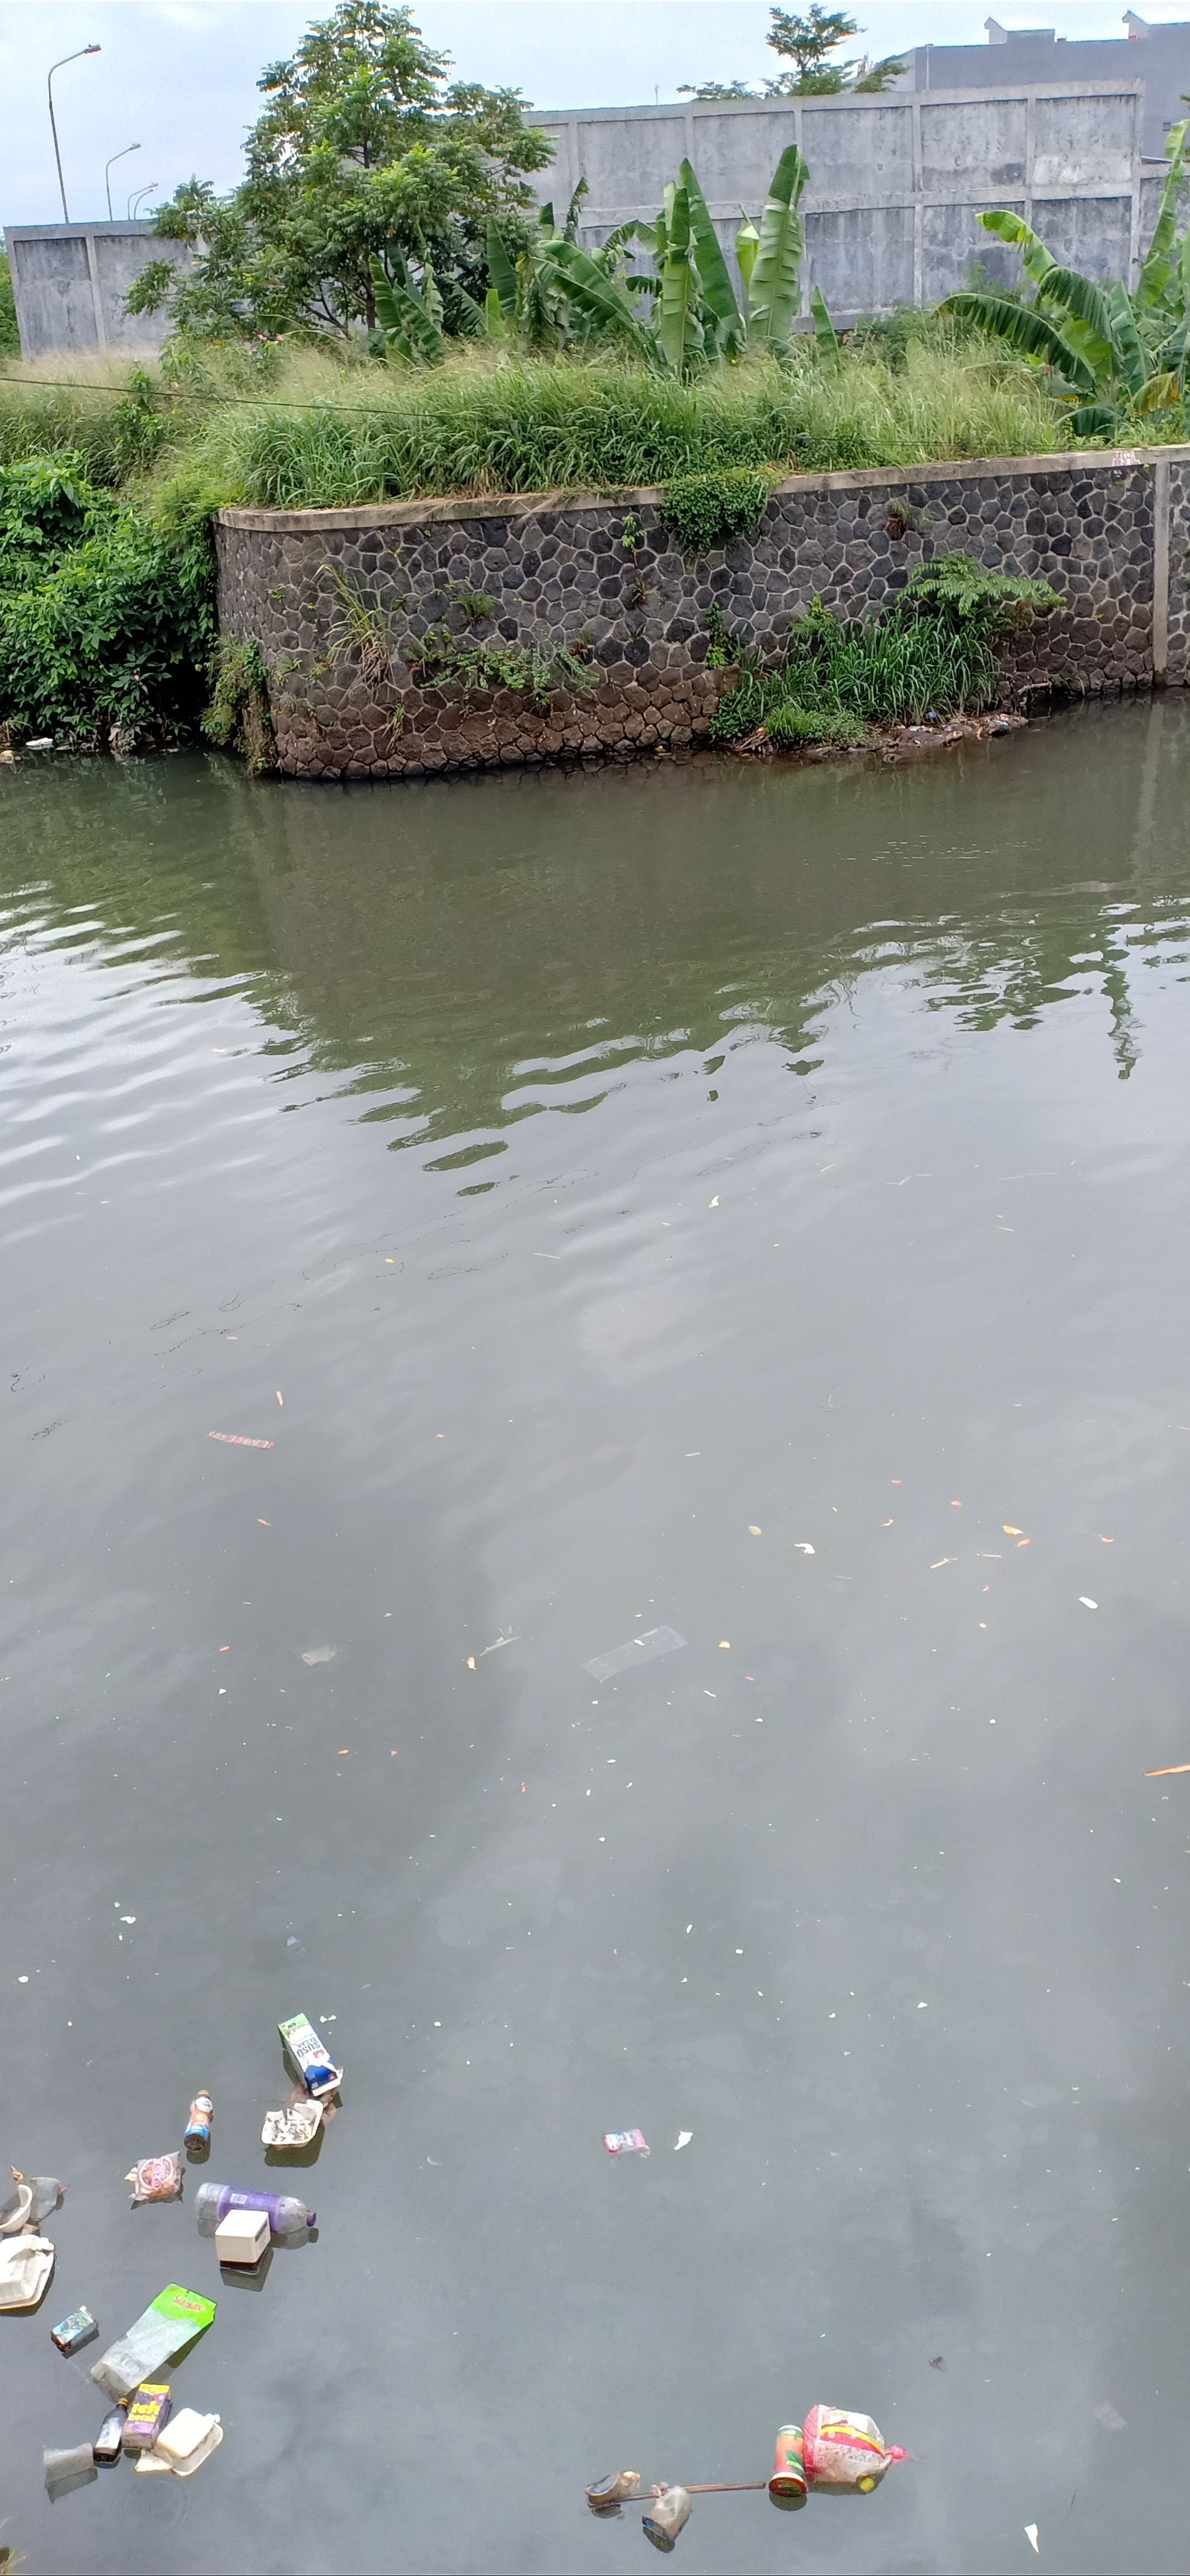Plastic Bottle: (194, 2182, 317, 2233), (92, 2397, 128, 2463), (182, 2090, 214, 2152), (25, 736, 53, 746), (654, 746, 666, 752)
